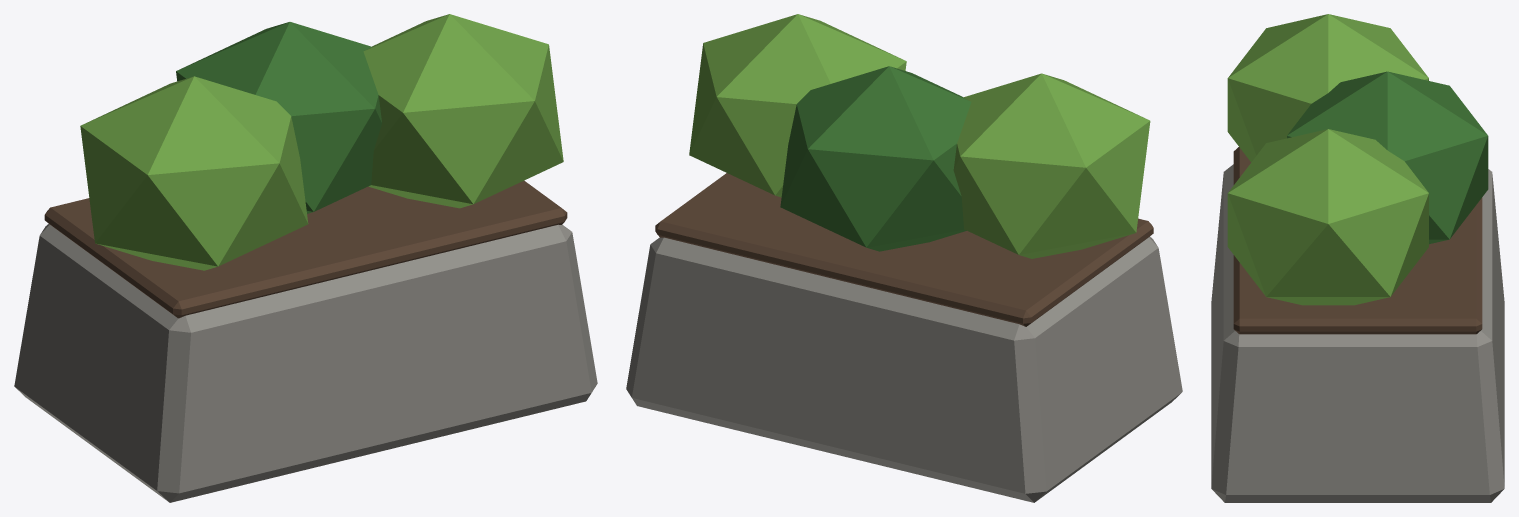
The model's file is VG_Planter.fbx.
The picture shows the model from 3 angles, left to right: view 1: azimuth 30°, elevation 25°; view 2: azimuth 150°, elevation 25°; view 3: azimuth 270°, elevation 25°; orthographic projection. The views are drawn at different scales.
Visible parts, largest first — view 1: VG_Planter_Mesh; view 2: VG_Planter_Mesh; view 3: VG_Planter_Mesh.
Boxes of the visible parts, <box> form: VG_Planter_Mesh: <box>14,14,597,502</box>; VG_Planter_Mesh: <box>626,14,1182,502</box>; VG_Planter_Mesh: <box>1211,14,1504,502</box>.
Size of the model in its own units: 1.64 by 1.26 by 0.992.
